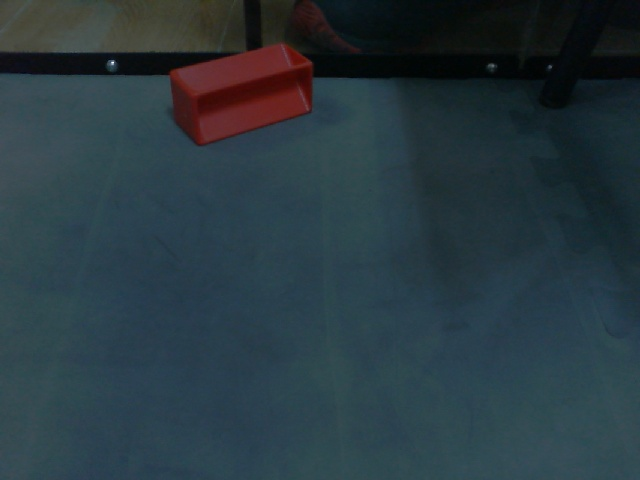RedSample: (166, 42, 316, 145)
